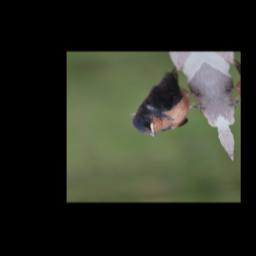Swallow: (117, 64, 214, 140)
